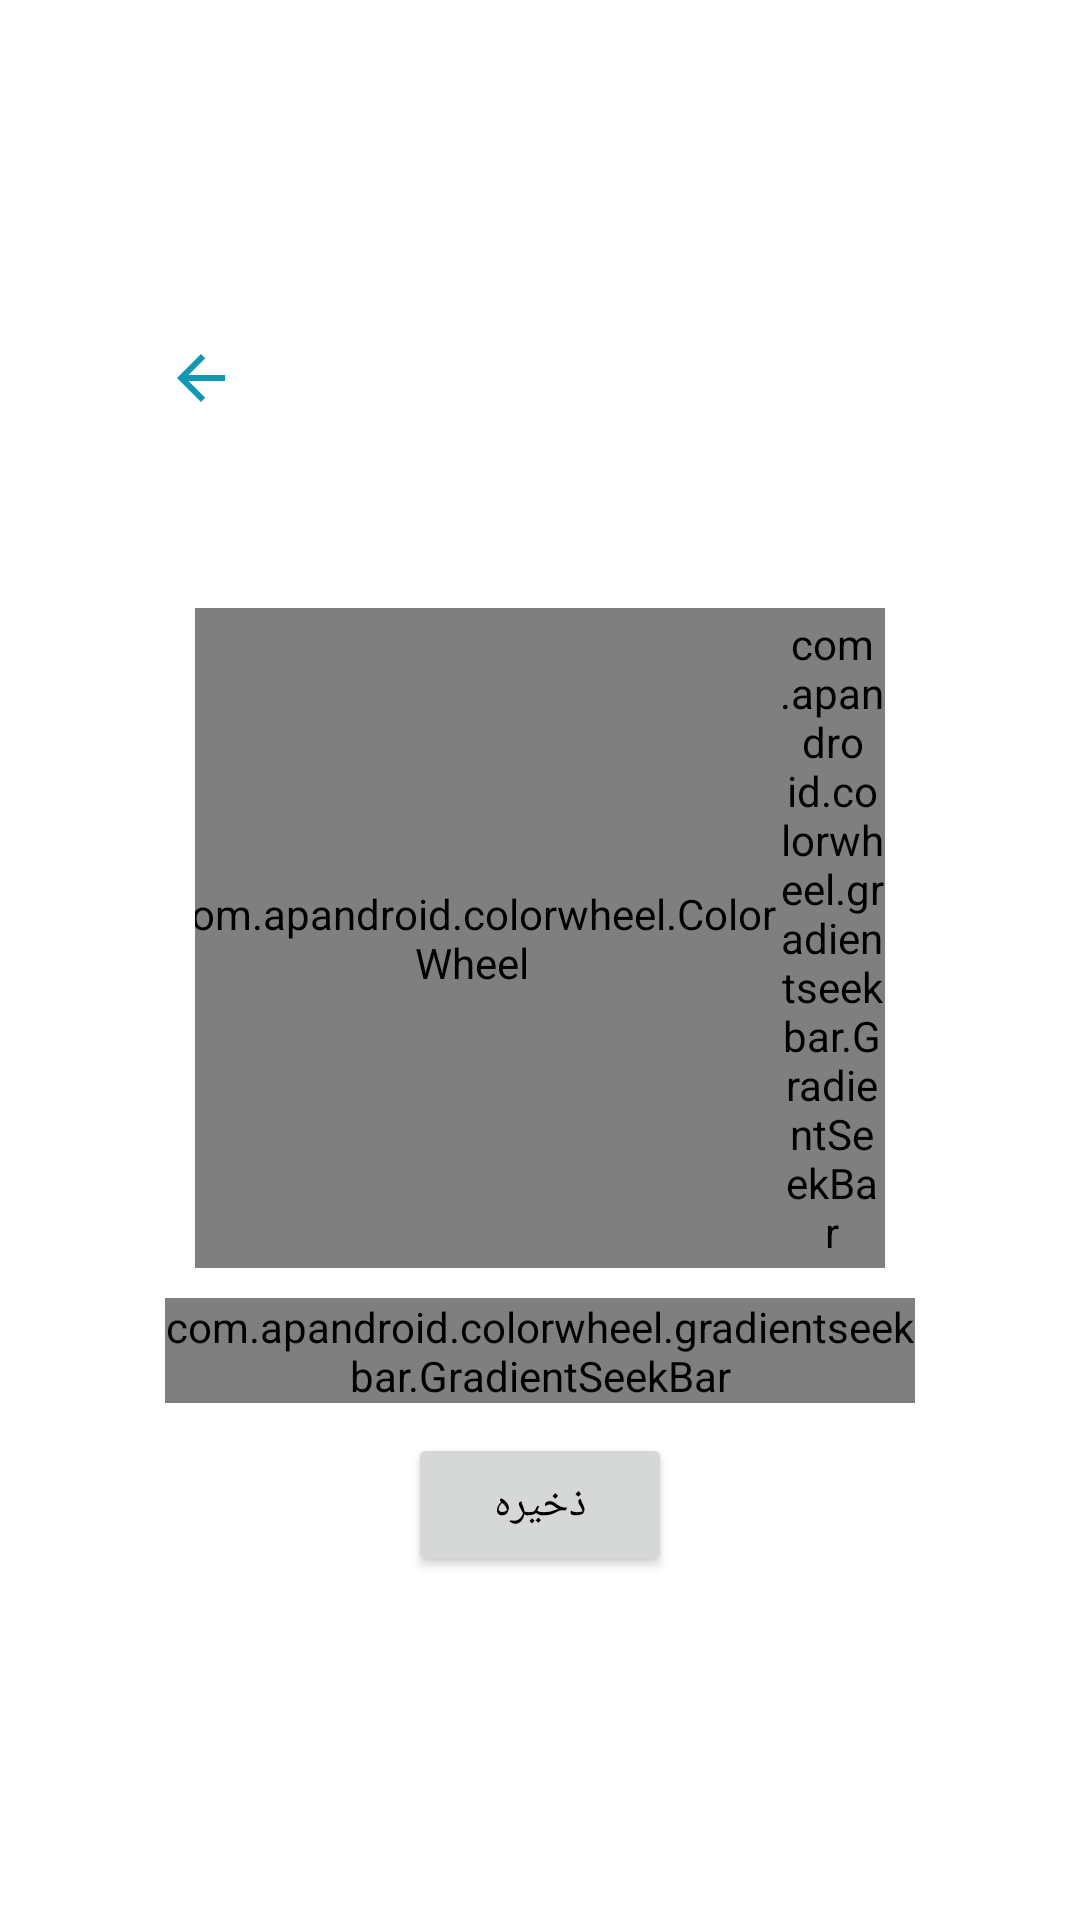

Named icons in this screenshot (1080w x 1920h) and their bounding boxes, box=[x1, y1, x2, y2]:
back: box=[177, 354, 225, 402]
